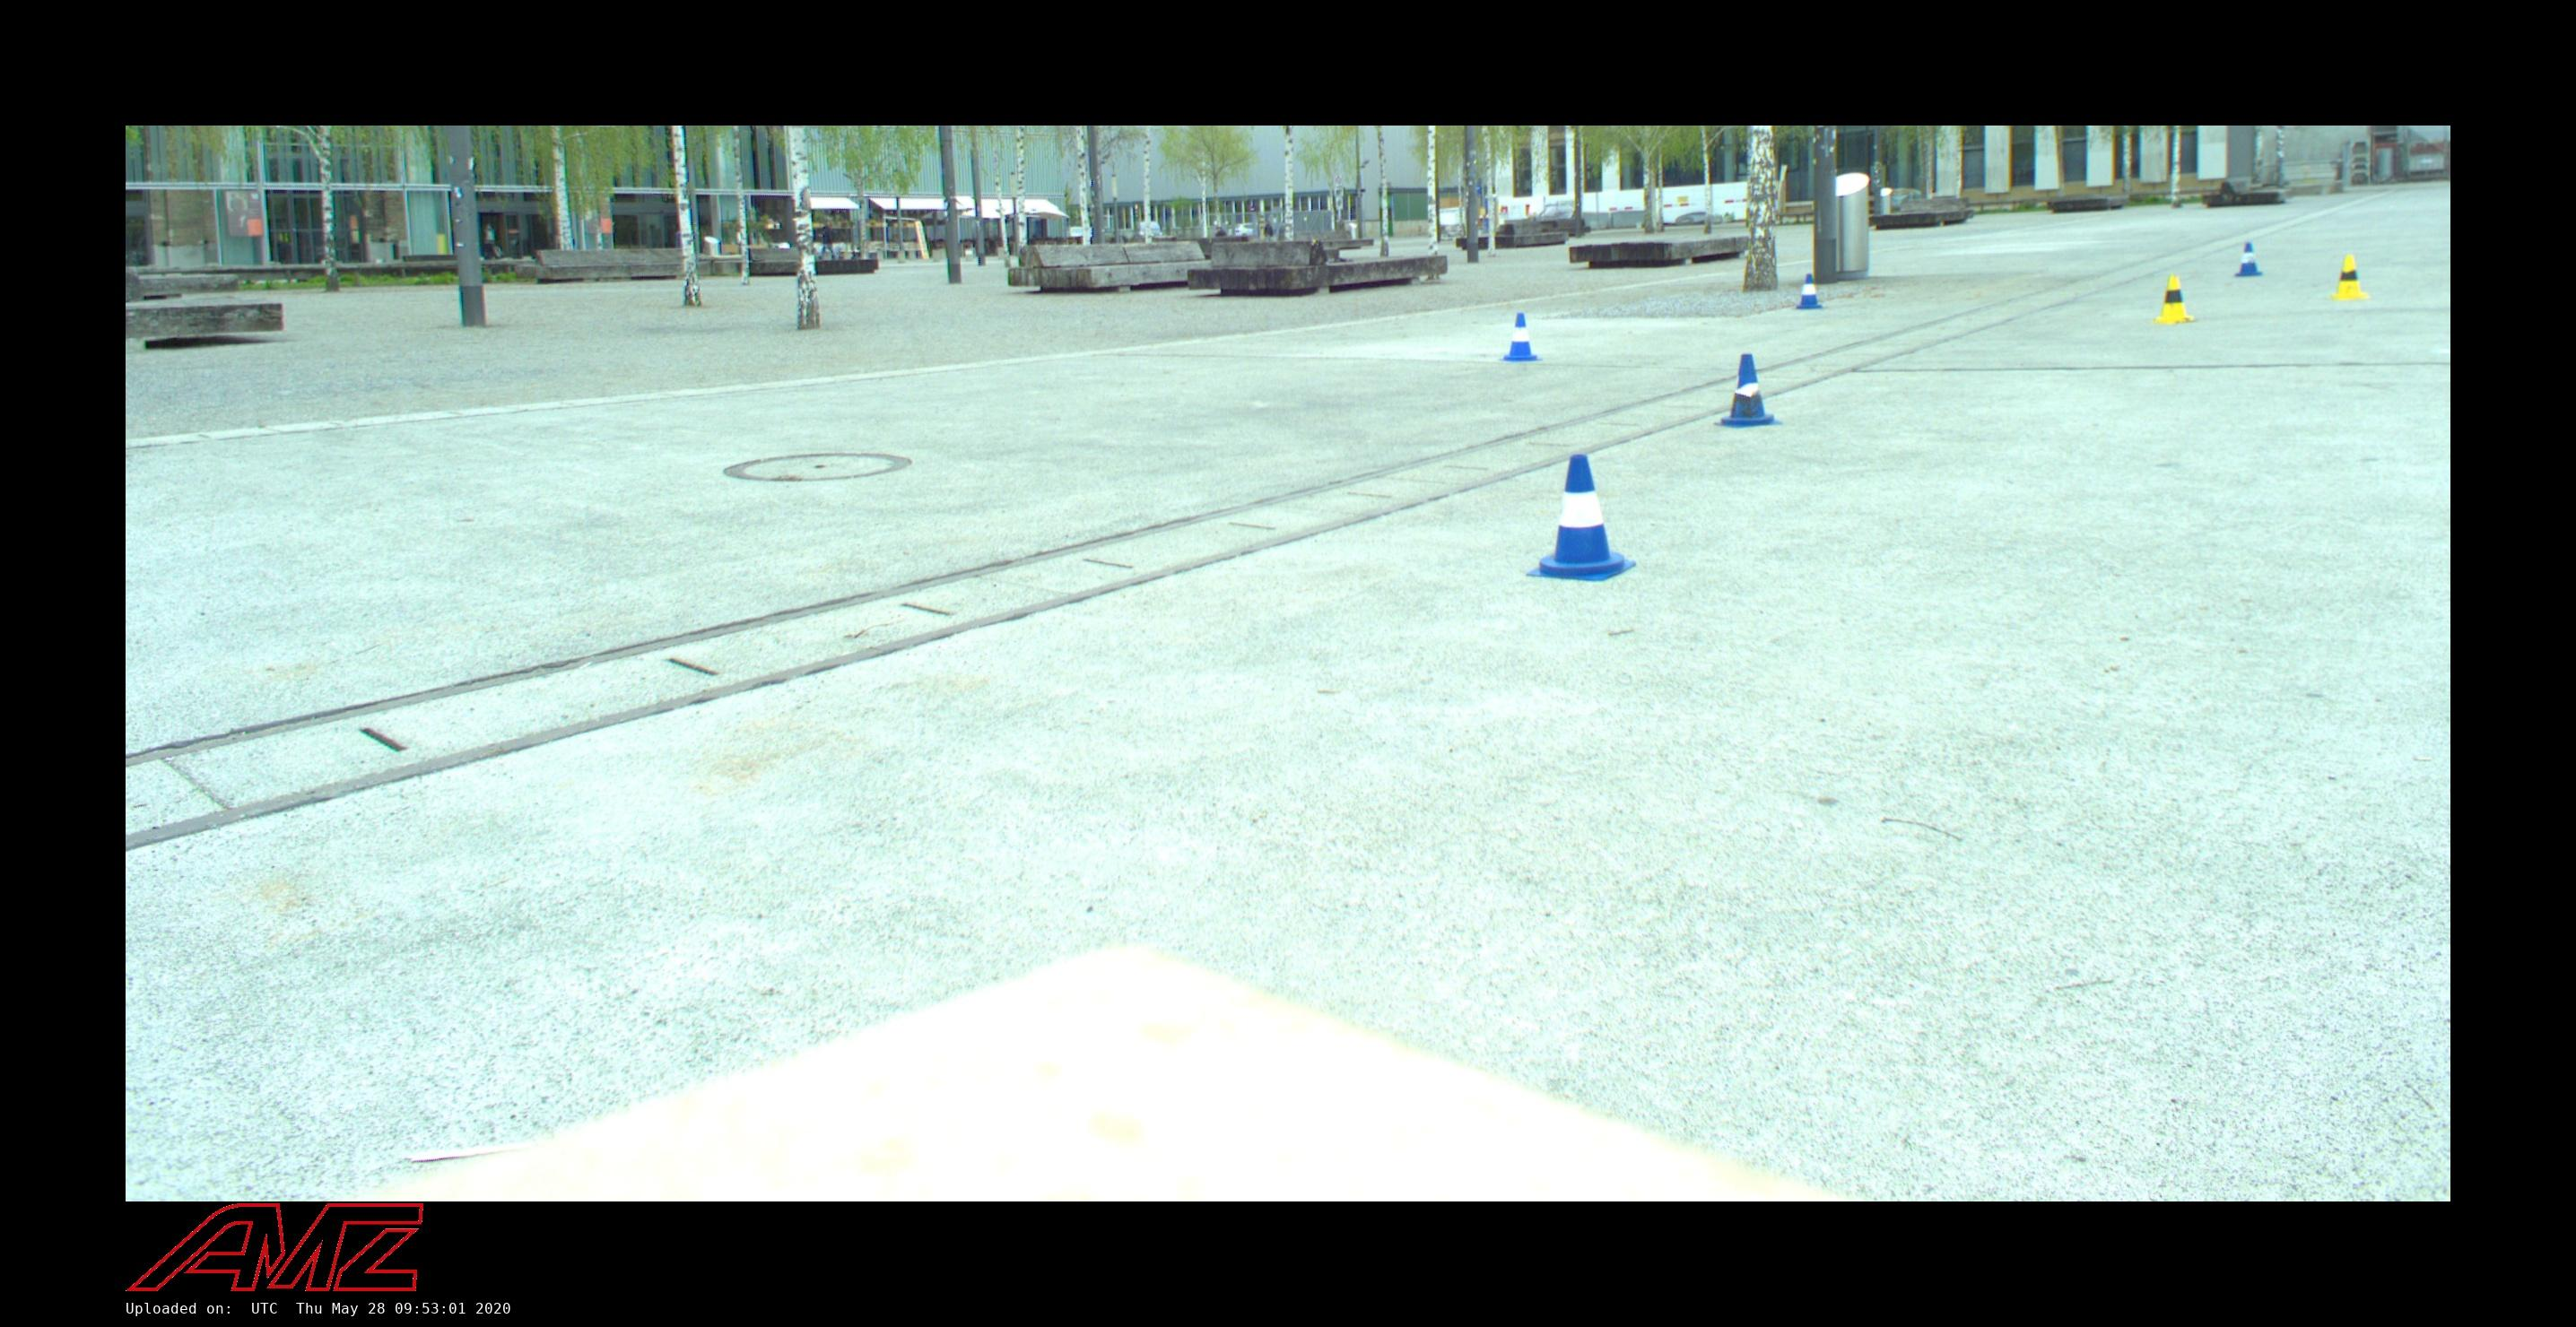blue_cone: (1525, 455, 1640, 582), (1716, 355, 1781, 428), (1498, 315, 1545, 362), (2232, 240, 2265, 276), (1794, 273, 1823, 308)
yellow_cone: (2149, 276, 2195, 325), (2327, 254, 2371, 300)
